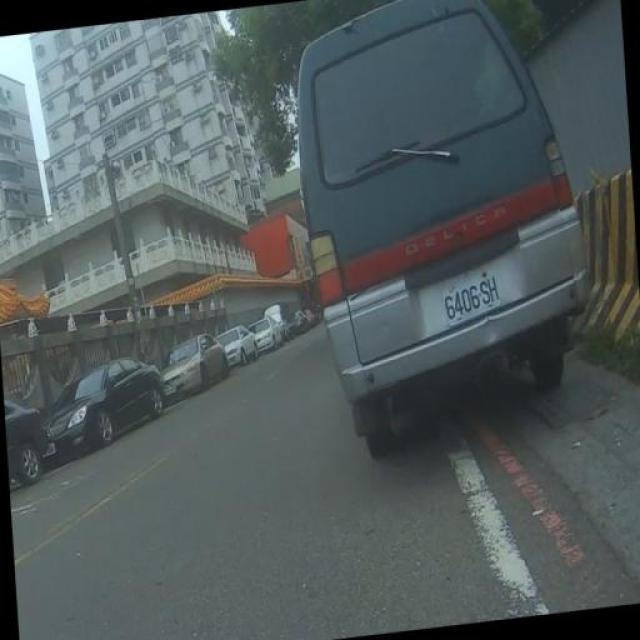Legalparking: (0, 296, 312, 481)
illegalparking: (280, 10, 604, 484)
